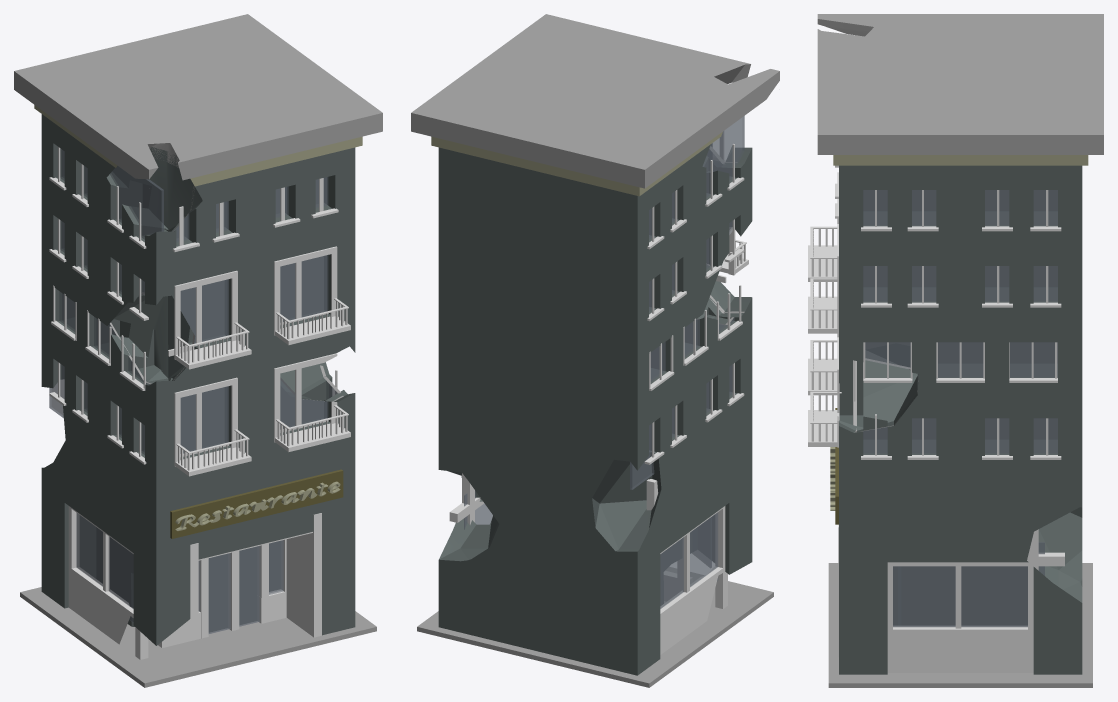
Rendered from edif1.2D.fbx.
3 renders of one model, left to right at view 1: azimuth 30°, elevation 25°; view 2: azimuth 150°, elevation 25°; view 3: azimuth 270°, elevation 25°, orthographic. The views are drawn at different scales.
Parts seen in each view (by area): view 1: polySurface265; view 2: polySurface265; view 3: polySurface265.
Part boxes in pixels (x1,y1,x2,y2): polySurface265: (14,14,382,687); polySurface265: (411,14,779,687); polySurface265: (808,14,1103,687).
Bounding box in the file's own units: 1.66 × 3.54 × 1.72.
